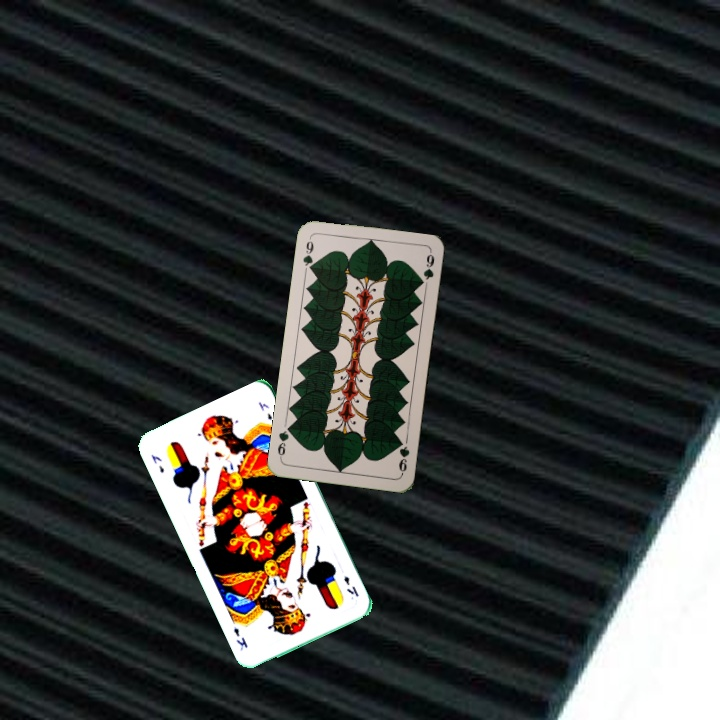EK: (340, 571, 361, 599), (147, 450, 167, 476)
G9: (394, 435, 412, 477), (299, 233, 316, 275)
